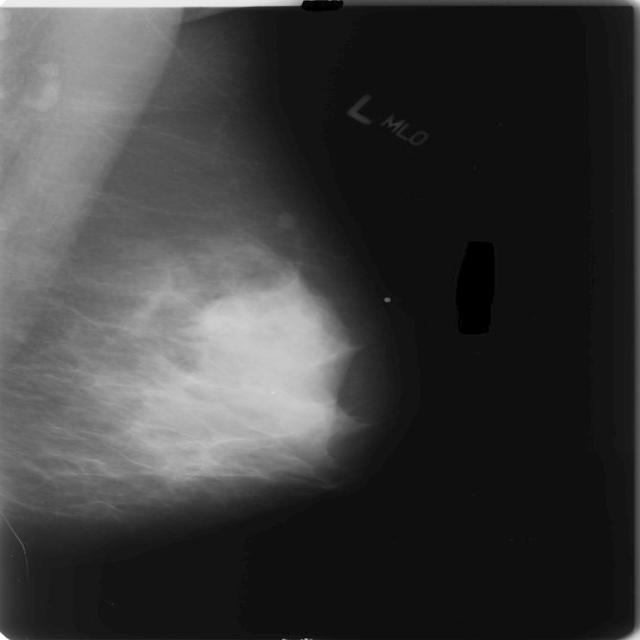tumour: (202, 296, 255, 354)
